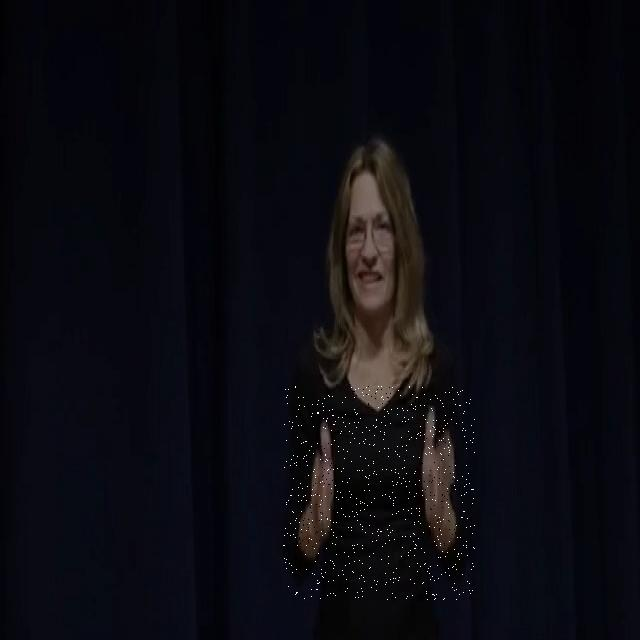manager: (283, 386, 475, 600)
